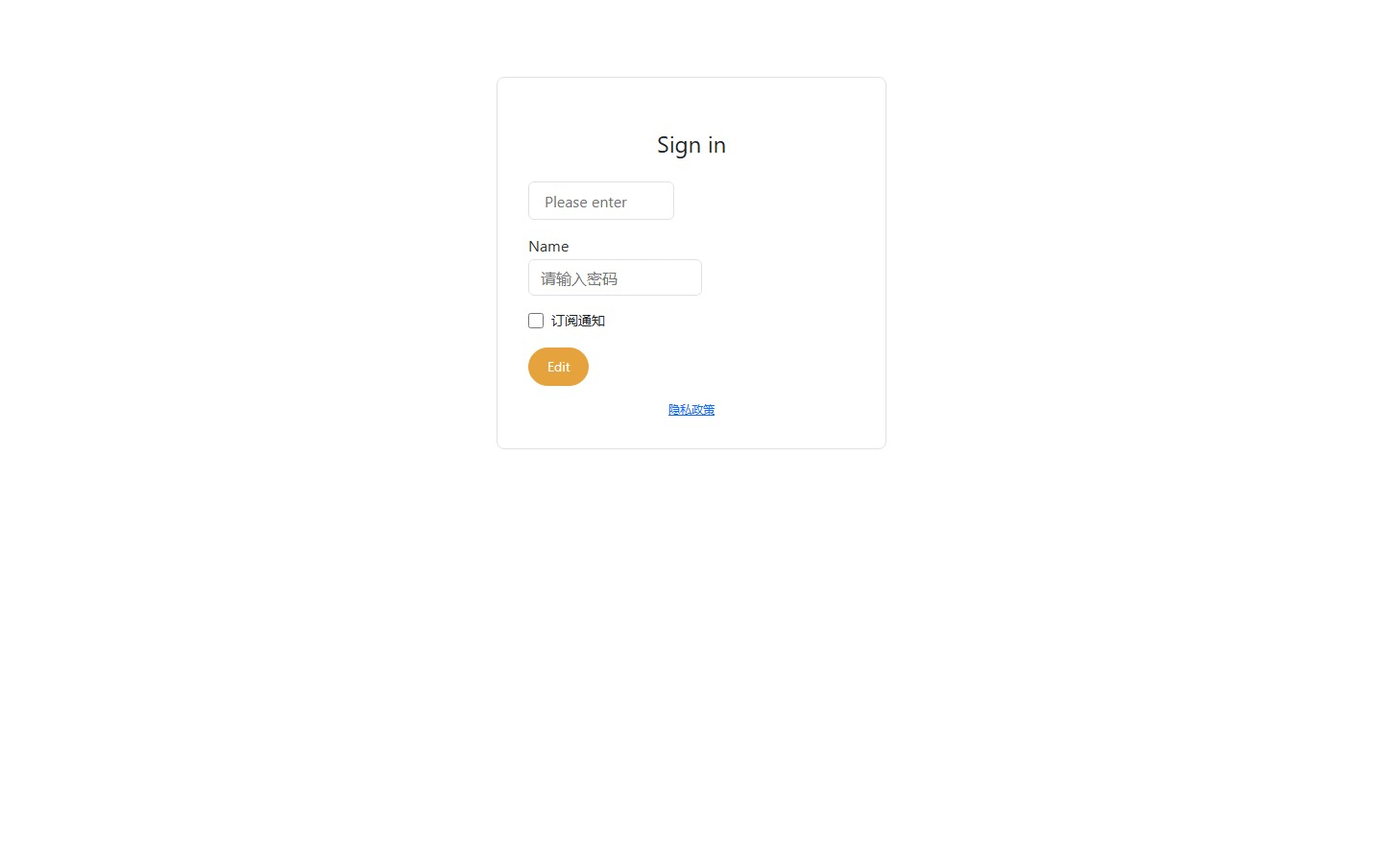button: (528, 347, 589, 386)
checkbox: (528, 313, 544, 328)
icon: (551, 311, 605, 329)
input: (528, 259, 702, 296), (528, 182, 674, 220)
link: (668, 401, 715, 416)
radio: (528, 311, 605, 329)
